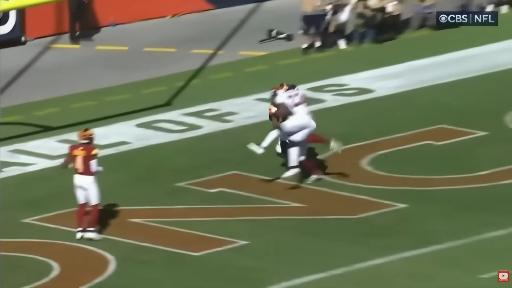Helmet: (271, 83, 287, 99), (78, 129, 93, 141), (279, 83, 288, 89), (287, 85, 297, 90)
Jersey: (69, 144, 98, 175), (275, 90, 309, 115), (269, 105, 277, 117)
Player: (273, 86, 341, 182), (63, 129, 102, 239), (269, 83, 288, 121), (269, 83, 287, 121)
